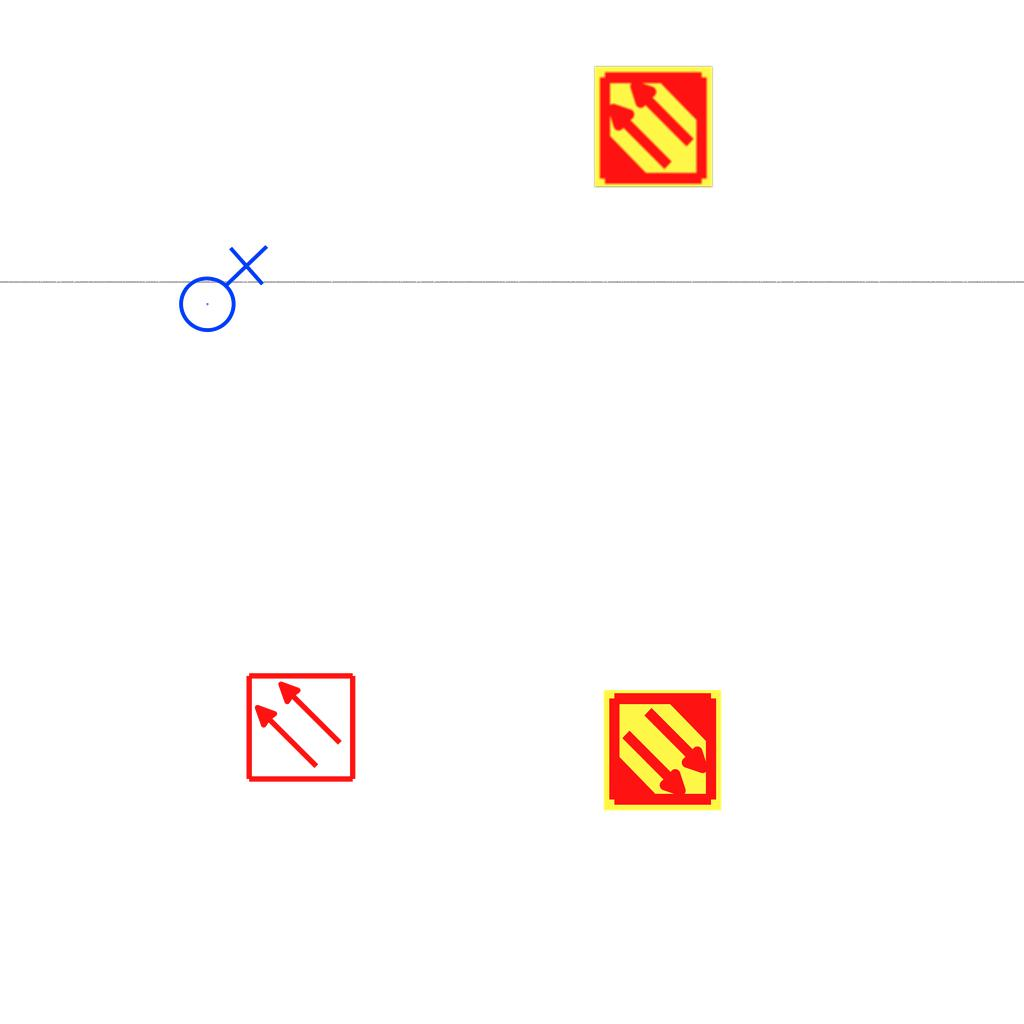ASR_Ansaugrauchmelder: (591, 64, 716, 189), (600, 688, 725, 813)
Elektroanschluss_allgemein_230V_Geraeteanschlussdose_230V: (170, 240, 269, 334)
RMO_Rauchmelder_optischer: (244, 671, 357, 784)
